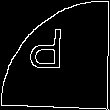P_S: (36, 29, 74, 81)
